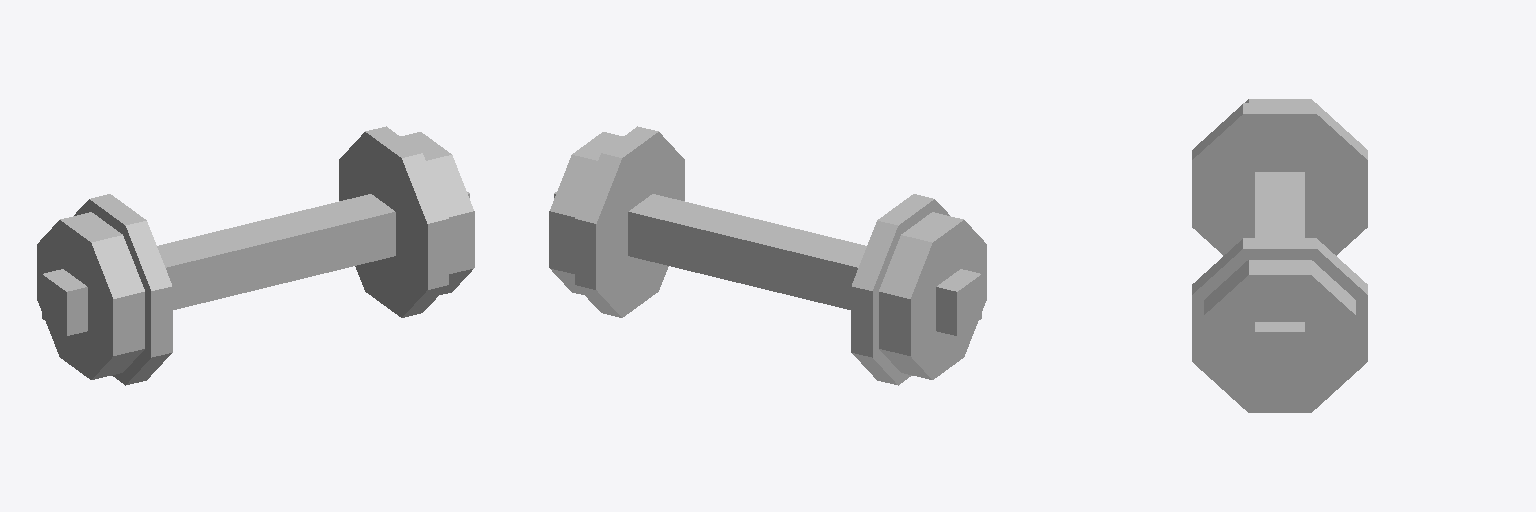
Rendered from wheels.obj.
The picture shows the model from 3 angles: view 1: azimuth 30°, elevation 25°; view 2: azimuth 150°, elevation 25°; view 3: azimuth 270°, elevation 25°; orthographic projection.
Visible parts, largest first — view 1: Cube.029_Cube.049_0, cube_1, cube_0, cube_2; view 2: Cube.029_Cube.049_0, cube_1, cube_0, cube_2; view 3: Cube.029_Cube.049_0, cube_0, cube_1, cube_2.
Part boxes in pixels (bbox=[...]): Cube.029_Cube.049_0: bbox=[37, 126, 474, 385]; cube_1: bbox=[42, 233, 235, 335]; cube_0: bbox=[276, 192, 469, 278]; cube_2: bbox=[212, 217, 299, 294]; Cube.029_Cube.049_0: bbox=[549, 126, 986, 385]; cube_1: bbox=[788, 233, 981, 335]; cube_0: bbox=[554, 192, 747, 278]; cube_2: bbox=[724, 217, 811, 294]; Cube.029_Cube.049_0: bbox=[1192, 99, 1367, 412]; cube_0: bbox=[1255, 322, 1304, 376]; cube_1: bbox=[1255, 172, 1304, 217]; cube_2: bbox=[1255, 218, 1304, 237].
Bounding box in the file's own units: 2.38 × 0.8999 × 0.8999.